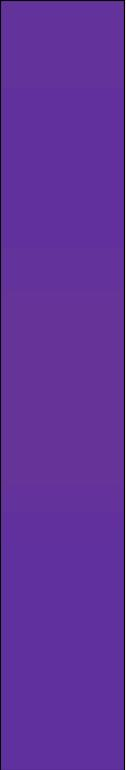safe: (11, 14, 114, 758)
